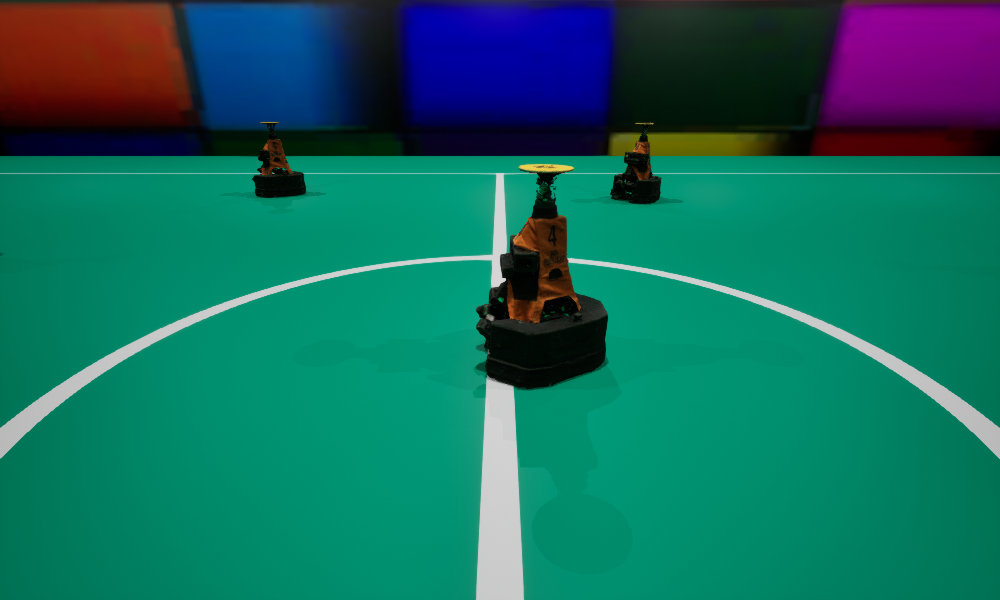o: (476, 164, 607, 388), (610, 123, 661, 202), (252, 122, 305, 197)
